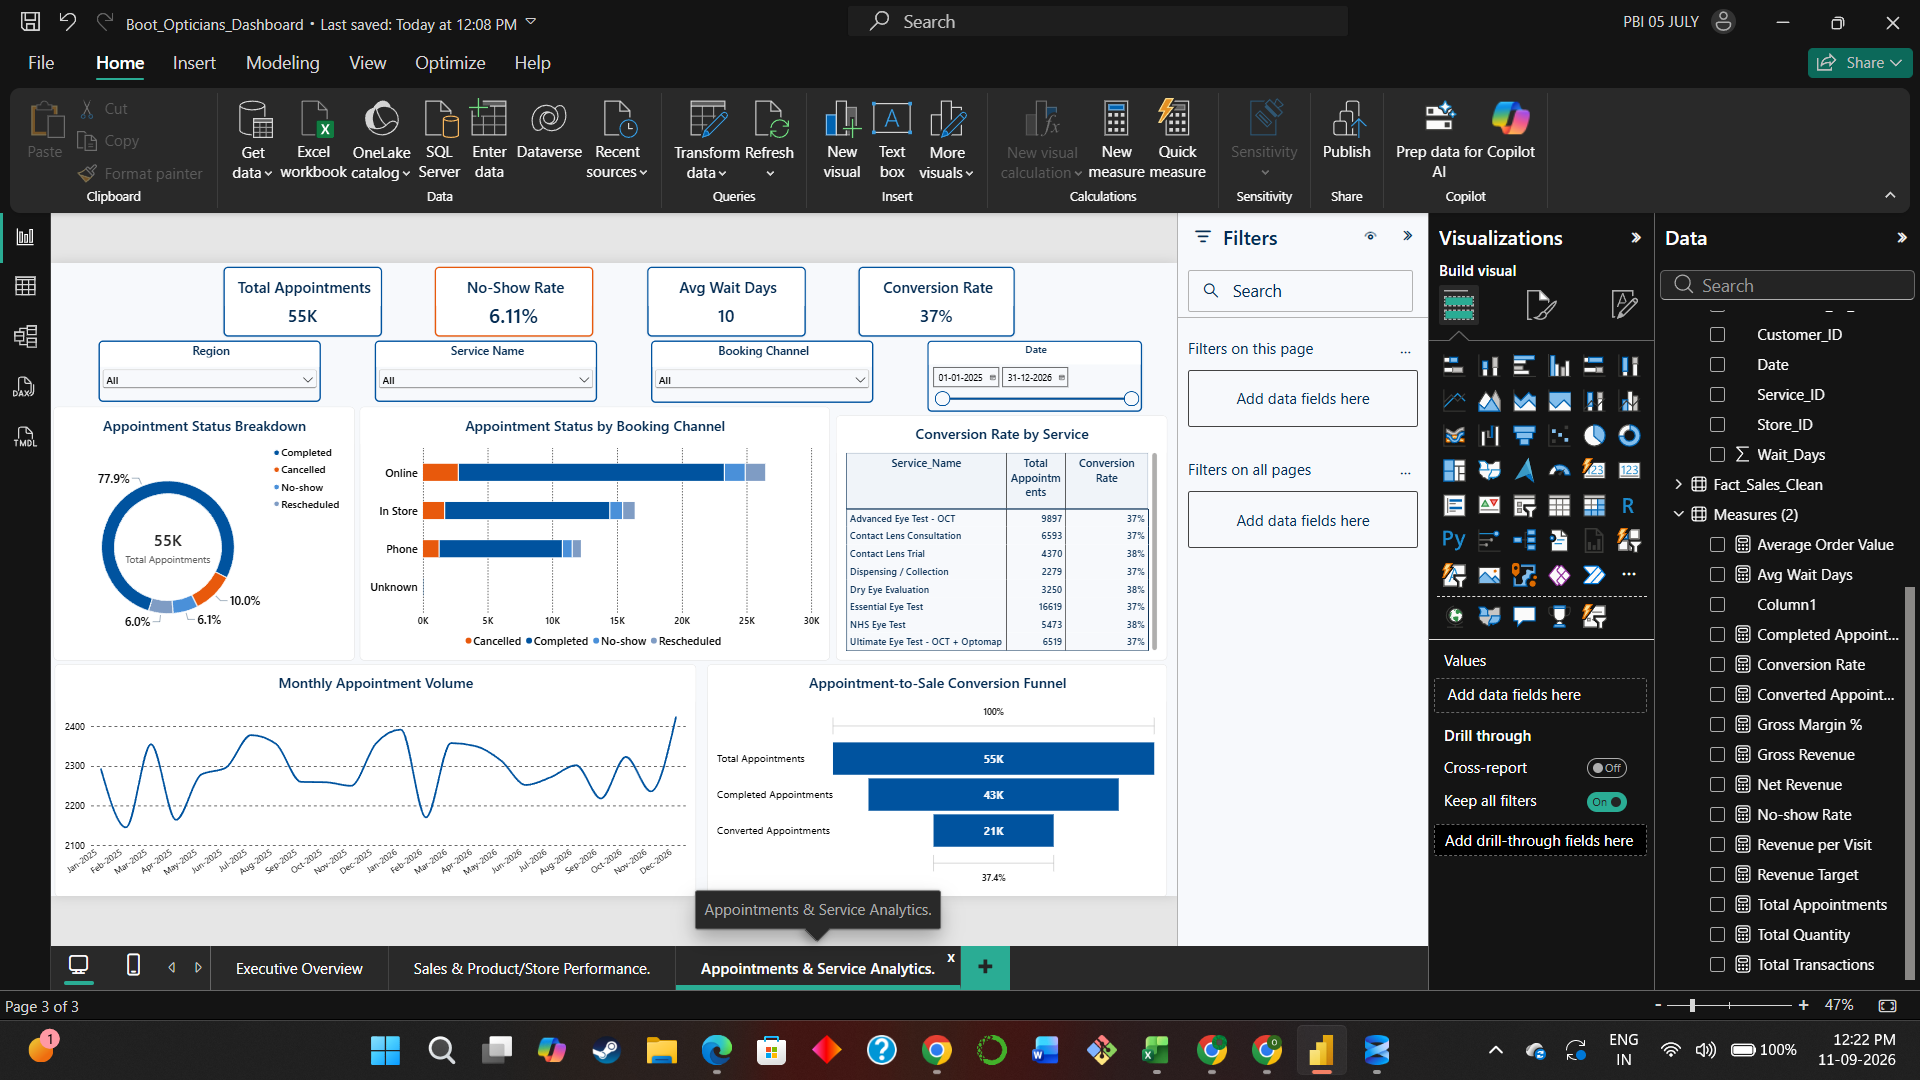

What the dashboard file says about the page in this screenshot:
{"tool":"powerbi","page":{"name":"Appointments & Service Analytics.","canvas":[1920,1080],"ordinal":2},"visuals":[{"type":"donutChart","title":"Appointment Status Breakdown","fields":{"Category":["Fact_Appointments_Clean.Appointment_Status"],"Y":["Measures (2).Total Appointments"]},"box":[4.3,245.1,513.7,432.7],"z":0},{"type":"funnel","title":"Appointment-to-Sale Conversion Funnel","fields":{"Y":["Measures (2).Total Appointments","Measures (2).Completed Appointments","Measures (2).Converted Appointments"]},"box":[1119,684.2,784.4,396.4],"z":1000},{"type":"lineChart","title":"Monthly Appointment Volume","fields":{"Category":["Dim_Date.YearMonth"],"Y":["Measures (2).Total Appointments"]},"box":[6.4,684.2,1093.4,396.4],"z":2000},{"type":"tableEx","title":"Conversion Rate by Service","fields":{"Values":["Dim_Service.Service_Name","Measures (2).Total Appointments","Measures (2).Conversion Rate"]},"box":[1338.5,260,564.8,417.8],"z":3000},{"type":"card","title":"No-Show Rate","fields":{"Values":["Measures (2).No-show Rate"]},"box":[655.1,6.4,270.7,119.4],"z":4000},{"type":"card","title":"Avg Wait Days","fields":{"Values":["Measures (2).Avg Wait Days"]},"box":[1016,6.4,270.7,119.4],"z":5000},{"type":"barChart","title":"Appointment Status by Booking Channel","fields":{"Category":["Fact_Appointments_Clean.Booking_Channel"],"Series":["Fact_Appointments_Clean.Appointment_Status"],"Y":["Measures (2).Total Appointments"]},"box":[526.5,245.1,801.4,432.7],"z":6000},{"type":"slicer","title":"Region","fields":{"Values":["Dim_Store.Region"]},"box":[81,132.1,379.4,104.4],"z":7000},{"type":"slicer","title":"Service Name ","fields":{"Values":["Dim_Service.Service_Name"]},"box":[552,132.1,379.4,104.4],"z":8000},{"type":"slicer","title":"Booking Channel","fields":{"Values":["Fact_Appointments_Clean.Booking_Channel"]},"box":[1023.1,132.1,379.4,106.6],"z":9000},{"type":"card","title":"Total Appointments","fields":{"Values":["Measures (2).Total Appointments"]},"box":[294.1,6.4,270.7,119.4],"z":10000},{"type":"card","title":"Conversion Rate","fields":{"Values":["Measures (2).Conversion Rate"]},"box":[1376.9,6.4,266.4,119.4],"z":11000},{"type":"slicer","title":"Date","fields":{"Values":["Dim_Date.Date"]},"box":[1494.1,132.1,366.6,121.5],"z":12000}]}

Visuals, with their boxes on the page's 1920x1080 design canvas (x1, y1, x2, y2). These are canvas units, not pixel positions in the 1920x1080 screenshot, which may show the page scaled, cropped or inside an application window:
"Appointment Status Breakdown" donutChart: x1=4, y1=245, x2=518, y2=678
"Appointment-to-Sale Conversion Funnel" funnel: x1=1119, y1=684, x2=1903, y2=1081
"Monthly Appointment Volume" lineChart: x1=6, y1=684, x2=1100, y2=1081
"Conversion Rate by Service" tableEx: x1=1338, y1=260, x2=1903, y2=678
"No-Show Rate" card: x1=655, y1=6, x2=926, y2=126
"Avg Wait Days" card: x1=1016, y1=6, x2=1287, y2=126
"Appointment Status by Booking Channel" barChart: x1=526, y1=245, x2=1328, y2=678
"Region" slicer: x1=81, y1=132, x2=460, y2=236
"Service Name " slicer: x1=552, y1=132, x2=931, y2=236
"Booking Channel" slicer: x1=1023, y1=132, x2=1402, y2=239
"Total Appointments" card: x1=294, y1=6, x2=565, y2=126
"Conversion Rate" card: x1=1377, y1=6, x2=1643, y2=126
"Date" slicer: x1=1494, y1=132, x2=1861, y2=254
